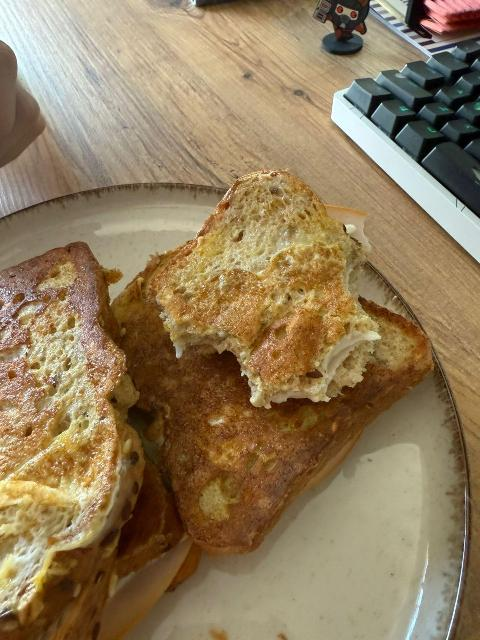Organik: (121, 228, 441, 539), (0, 259, 132, 637), (161, 175, 384, 393)
